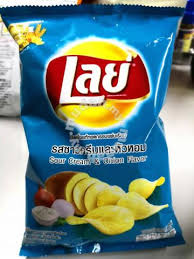lays-small: (6, 4, 179, 248)
